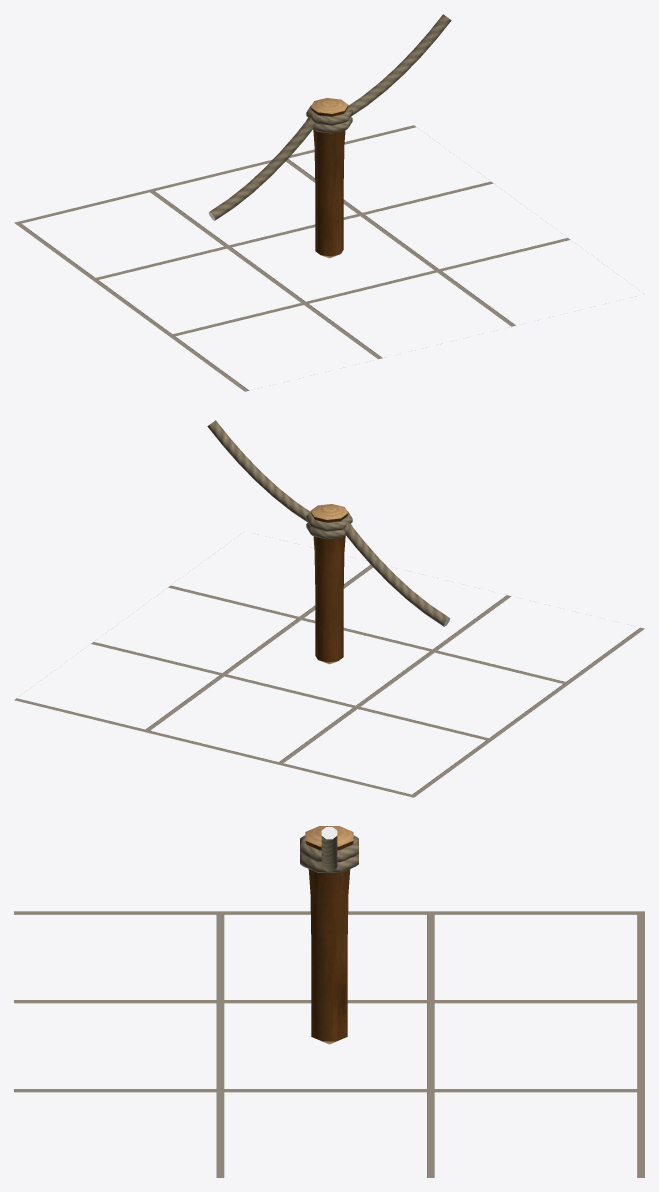
File: Docks_Railing_Posts_Steps_Roped_1x3.glb
The picture shows the model from 3 angles, top to bottom: view 1: azimuth 30°, elevation 25°; view 2: azimuth 150°, elevation 25°; view 3: azimuth 270°, elevation 25°; orthographic projection. The views are drawn at different scales.
Visible parts, largest first — view 1: Docks_Railing_Posts_Steps_Roped_1x3, Floor; view 2: Docks_Railing_Posts_Steps_Roped_1x3, Floor; view 3: Floor, Docks_Railing_Posts_Steps_Roped_1x3.
Boxes of the visible parts, bbox=[...] form: Docks_Railing_Posts_Steps_Roped_1x3: bbox=[208, 14, 451, 258]; Floor: bbox=[14, 125, 570, 391]; Docks_Railing_Posts_Steps_Roped_1x3: bbox=[207, 420, 450, 664]; Floor: bbox=[14, 564, 644, 797]; Floor: bbox=[14, 911, 644, 1177]; Docks_Railing_Posts_Steps_Roped_1x3: bbox=[300, 826, 358, 1044].
Bounding box in the file's own units: 300 × 154 × 300.
5 materials, 4 textured.
